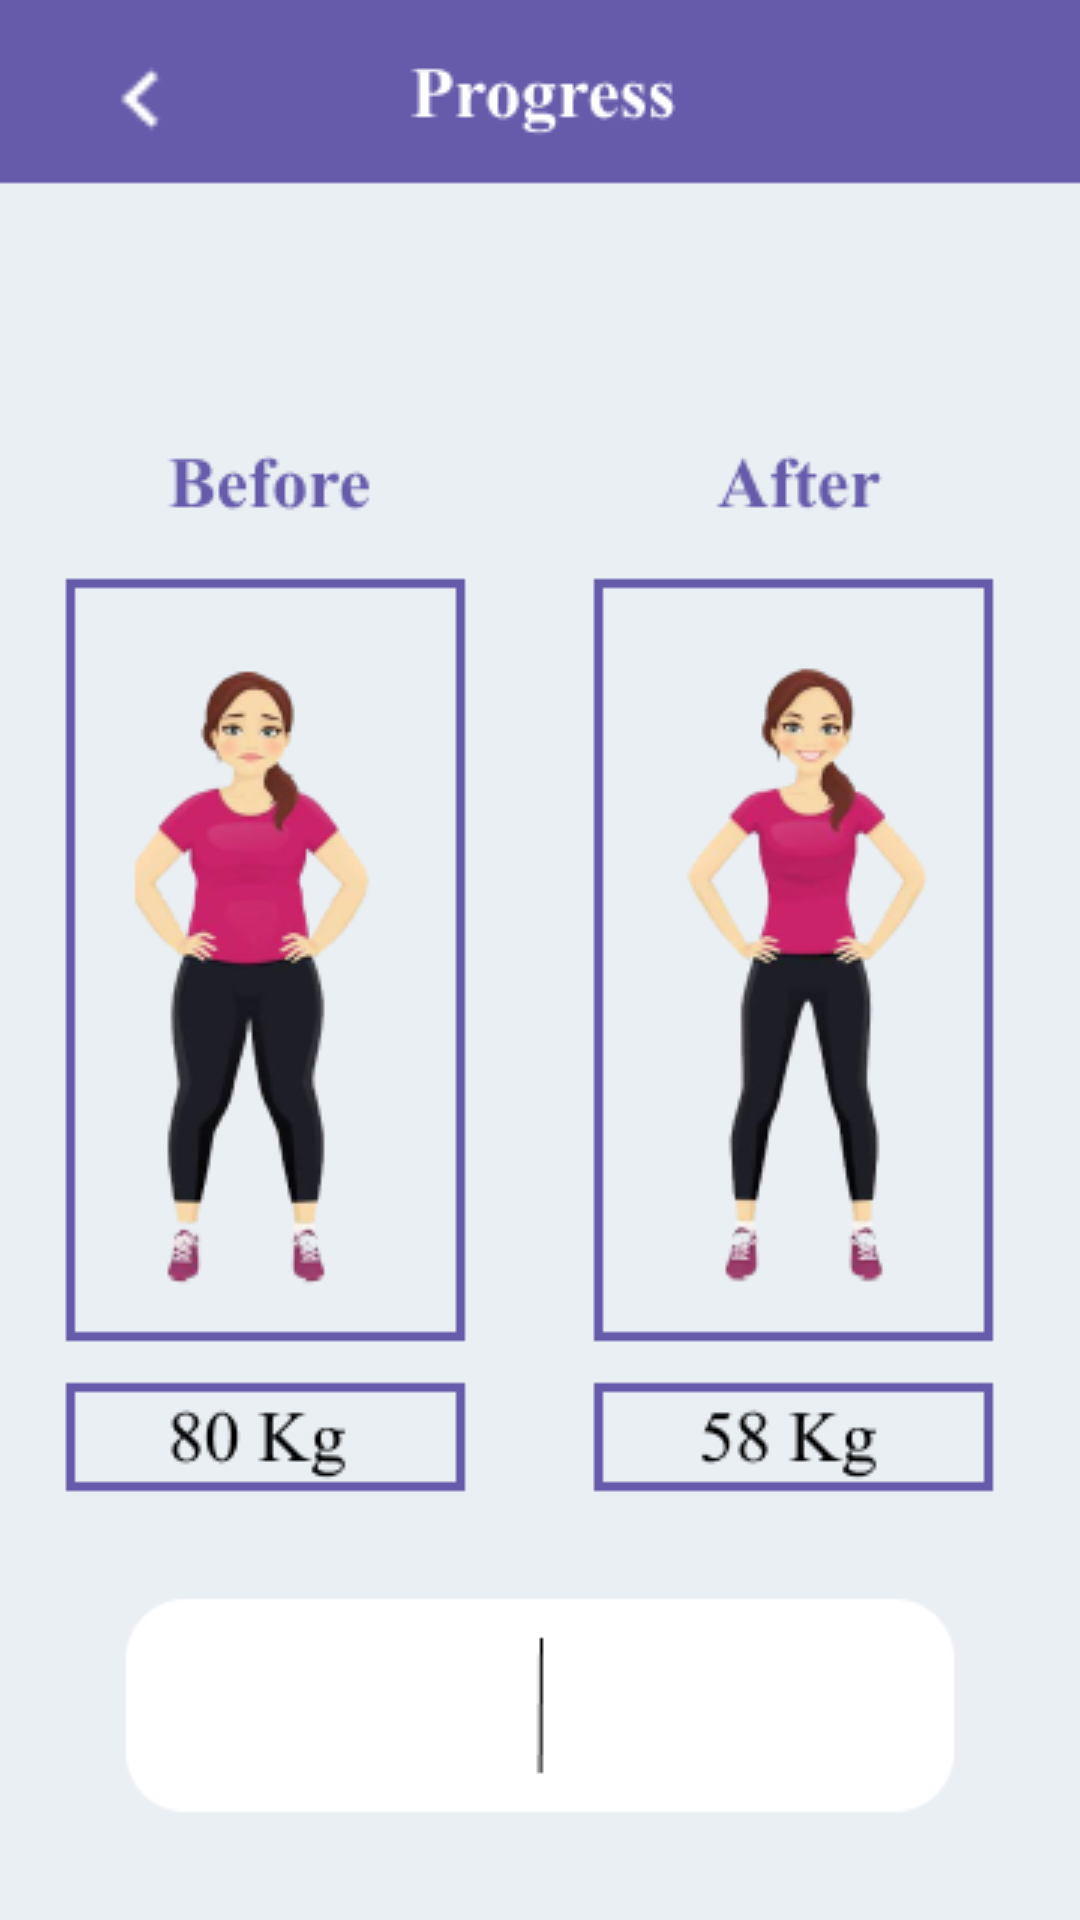

Icons on this 1080 x 1920 Android screen, each with its box as [x1,y1,x2,y2]:
back wht: [121,69,158,129]
